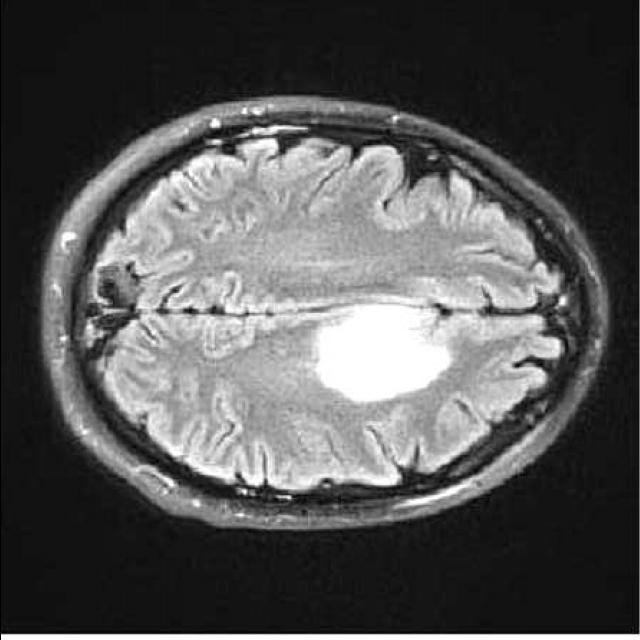tumor: (311, 300, 452, 402)
